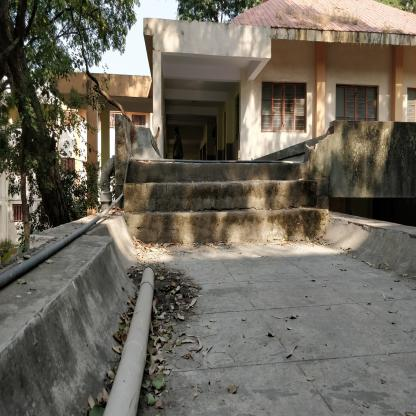stairs: (128, 159, 307, 252)
